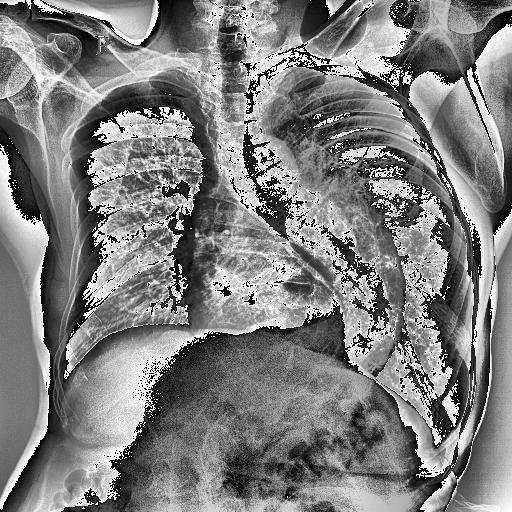9- Other lesion: (188, 73, 412, 379), (224, 139, 416, 400), (178, 164, 412, 348)
